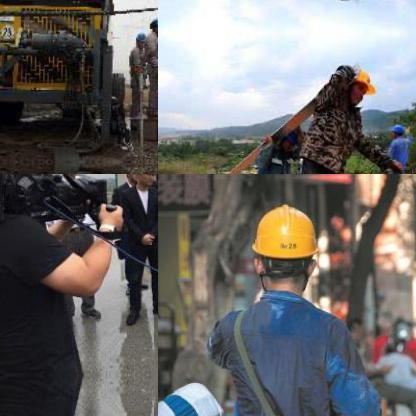Helmet: (249, 197, 320, 292), (346, 66, 372, 101), (127, 174, 155, 187), (120, 174, 138, 185), (390, 120, 402, 136), (147, 14, 157, 33), (134, 30, 146, 44)
